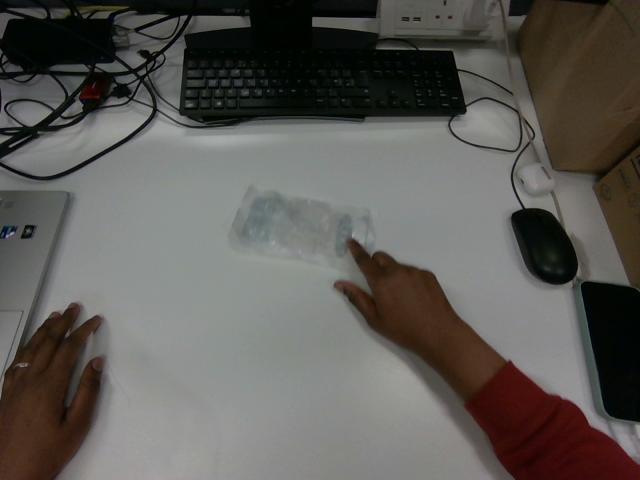gallipot: (230, 186, 373, 269)
